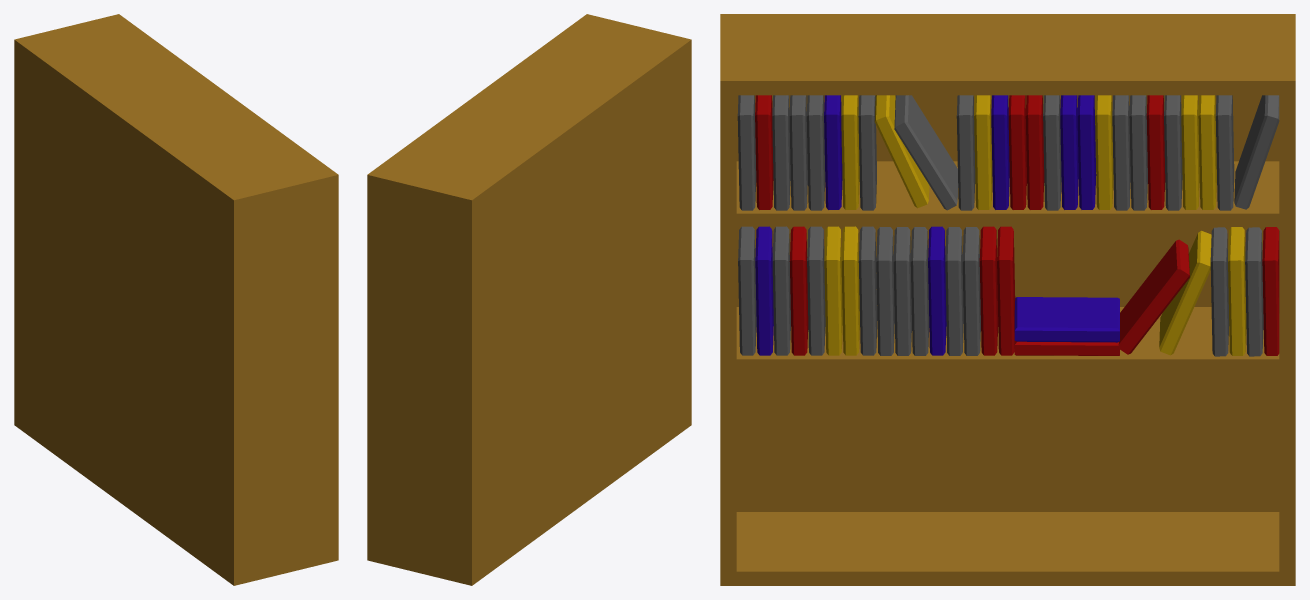
The model's file is Bibliotheque.fbx.
The picture shows the model from 3 angles, left to right: view 1: azimuth 30°, elevation 25°; view 2: azimuth 150°, elevation 25°; view 3: azimuth 270°, elevation 25°; orthographic projection. The views are drawn at different scales.
Visible parts, largest first — view 1: pCube6; view 2: pCube6; view 3: pCube6.
Boxes of the visible parts, <box> form: pCube6: <box>14,14,338,585</box>; pCube6: <box>367,14,691,585</box>; pCube6: <box>720,14,1295,585</box>.
Size of the model in its own units: 5.46 by 19.22 by 19.84.
